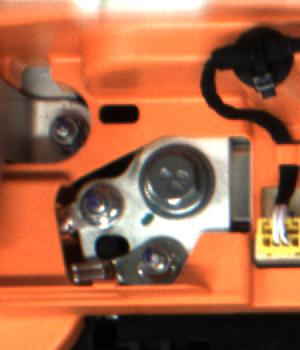nut_b: (138, 143, 218, 217)
screw_s: (132, 240, 177, 282), (42, 111, 86, 150), (80, 190, 122, 223)
